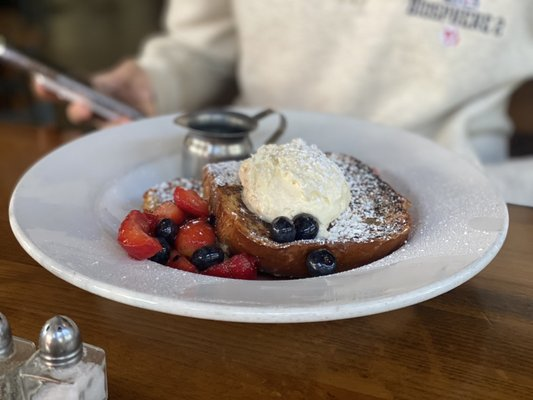sandwich: (1, 38, 144, 125)
